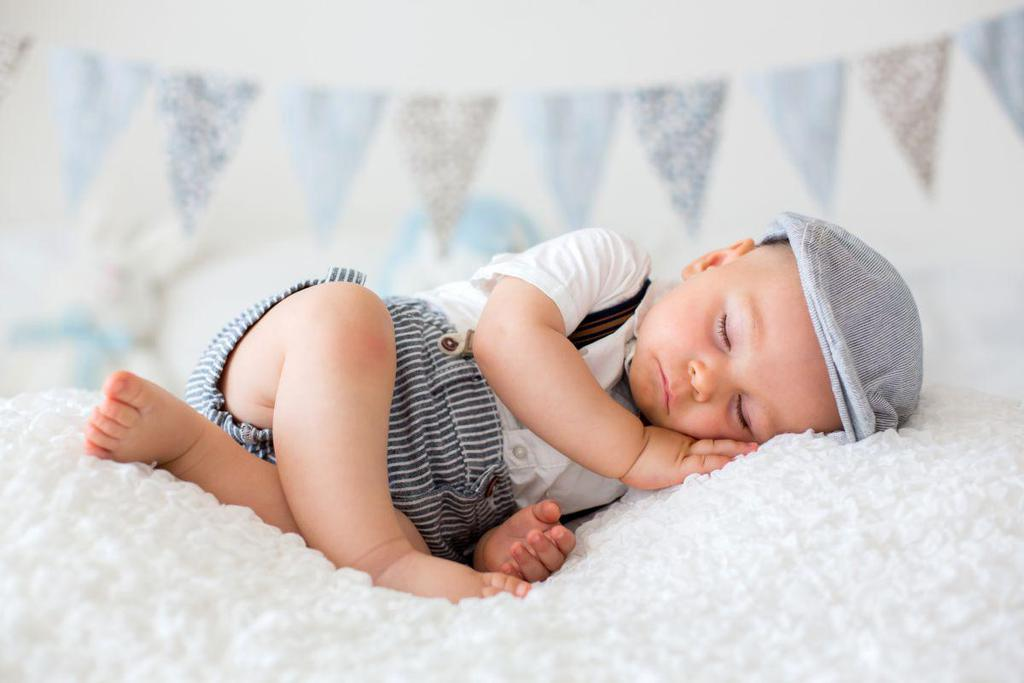child: (59, 160, 960, 607)
